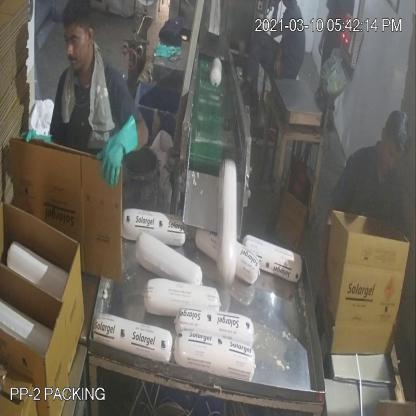glove: (96, 113, 152, 190)
no_glove: (312, 190, 347, 318)
